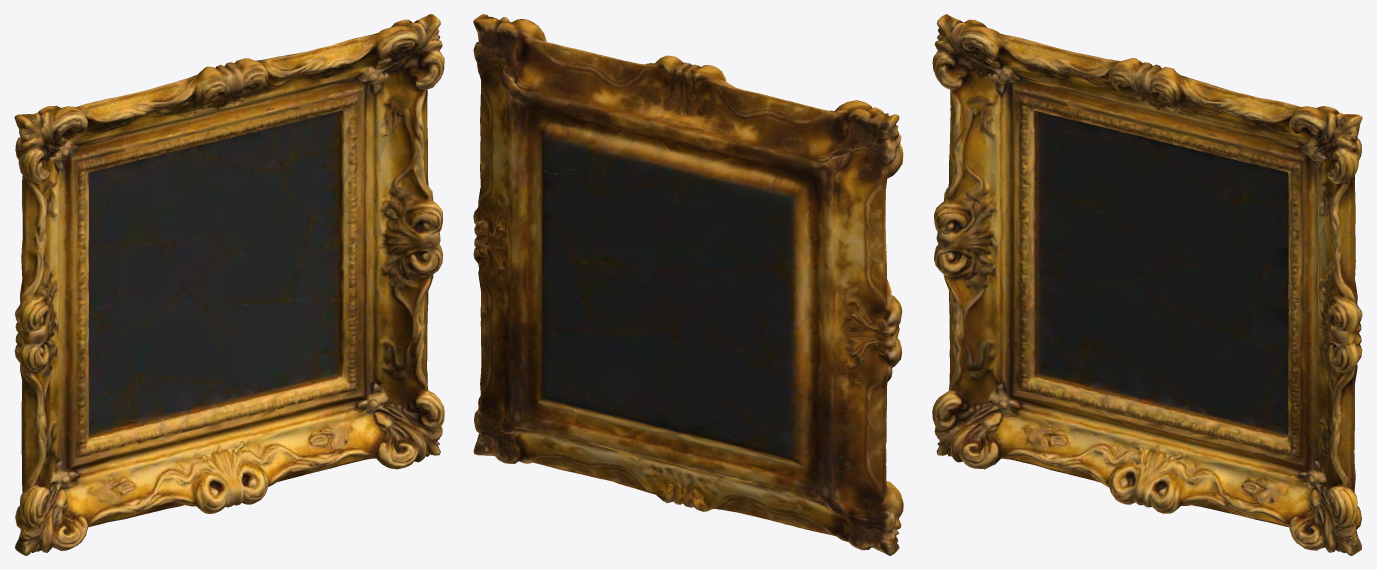
File: doom.glb
3 renders of one model, left to right at view 1: azimuth 30°, elevation 25°; view 2: azimuth 150°, elevation 25°; view 3: azimuth 330°, elevation 25°, orthographic.
Parts seen in each view (by area): view 1: Mesh_0; view 2: Mesh_0; view 3: Mesh_0.
Part boxes in pixels (x1,y1,x2,y2): Mesh_0: (14, 14, 444, 555); Mesh_0: (473, 14, 903, 555); Mesh_0: (932, 14, 1362, 555).
Bounding box in the file's own units: 32767 × 32751 × 4064.
Materials: 1 (1 with a texture image).
